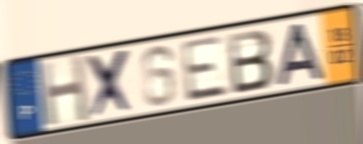6: (140, 43, 177, 108)
A: (274, 20, 328, 90)
B: (225, 27, 275, 97)
E: (179, 33, 231, 105)
H: (37, 52, 93, 129)
X: (85, 46, 136, 121)
